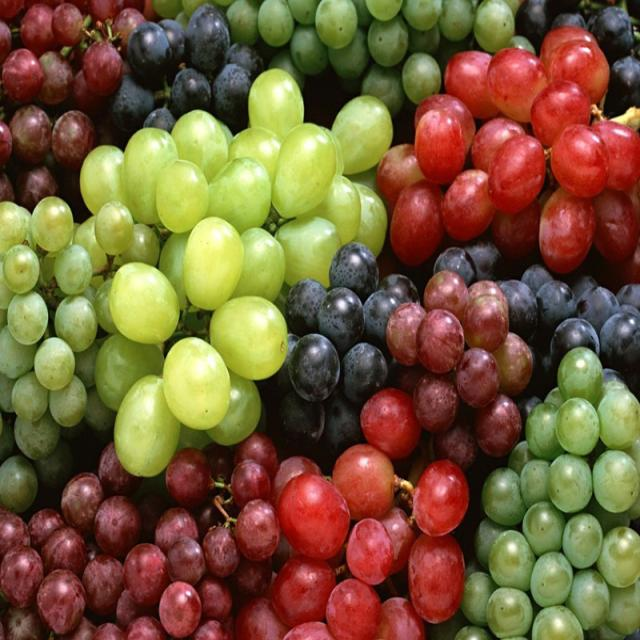grape: (114, 376, 179, 475), (210, 297, 287, 379), (163, 339, 230, 429), (278, 474, 349, 558), (272, 124, 335, 218), (109, 263, 179, 344), (122, 128, 178, 223), (95, 334, 163, 410), (408, 535, 464, 622), (207, 157, 271, 233), (332, 96, 392, 174), (540, 188, 595, 273), (390, 180, 444, 266), (333, 444, 394, 520), (272, 555, 335, 627), (488, 135, 545, 214), (276, 216, 341, 285), (488, 48, 548, 122), (172, 109, 231, 183), (360, 389, 420, 458), (413, 460, 468, 535), (552, 124, 608, 197), (531, 80, 590, 147), (208, 371, 261, 445), (546, 41, 609, 103), (248, 69, 303, 140), (415, 109, 466, 184), (156, 160, 209, 232), (442, 170, 495, 241), (309, 174, 361, 244), (444, 52, 498, 119), (288, 334, 340, 402), (414, 94, 475, 150), (593, 189, 638, 262), (592, 121, 639, 190), (327, 580, 381, 639), (185, 5, 230, 74), (80, 146, 124, 215), (416, 310, 464, 373), (37, 570, 85, 633), (318, 287, 363, 354), (228, 125, 280, 182), (475, 394, 521, 457), (94, 496, 141, 557), (471, 118, 524, 172), (593, 451, 639, 513), (330, 243, 378, 302), (492, 200, 540, 259), (376, 144, 423, 204), (488, 531, 535, 590), (124, 543, 168, 606), (166, 447, 211, 508), (127, 23, 171, 85), (212, 63, 252, 130), (61, 473, 103, 535), (270, 456, 321, 507), (52, 110, 95, 170), (236, 501, 279, 561), (462, 295, 508, 351), (548, 455, 592, 513), (0, 547, 43, 606), (566, 570, 609, 629), (456, 348, 499, 407), (386, 302, 426, 365), (558, 347, 602, 404), (82, 554, 123, 615), (493, 332, 532, 396), (9, 105, 51, 164), (482, 469, 526, 525), (598, 389, 639, 449), (556, 398, 599, 455), (354, 183, 387, 257), (588, 8, 633, 62), (158, 233, 189, 309), (540, 26, 596, 68), (41, 526, 87, 577), (380, 507, 415, 573), (487, 587, 533, 637), (285, 279, 326, 335), (364, 291, 402, 351), (31, 197, 73, 251), (160, 582, 201, 637), (2, 48, 43, 103), (98, 442, 141, 494), (531, 552, 572, 606), (33, 338, 75, 390), (7, 292, 48, 345), (82, 42, 123, 95), (235, 598, 288, 639), (424, 270, 468, 319), (434, 421, 478, 470), (368, 15, 408, 68), (14, 412, 59, 459), (154, 507, 198, 554), (536, 280, 575, 333), (95, 202, 134, 254), (402, 53, 441, 104), (577, 286, 619, 333), (0, 326, 37, 379), (230, 459, 270, 508), (461, 571, 497, 625), (49, 376, 87, 427), (54, 245, 92, 296), (378, 598, 425, 639), (34, 440, 72, 490), (202, 527, 239, 578), (290, 25, 327, 75), (606, 582, 639, 634), (532, 606, 583, 639), (120, 223, 159, 266), (196, 575, 231, 621), (28, 508, 63, 553), (268, 50, 306, 90), (116, 589, 154, 628), (0, 202, 29, 253), (0, 506, 29, 557), (3, 607, 48, 639), (113, 7, 144, 53), (125, 615, 166, 639), (508, 440, 535, 475), (143, 108, 175, 133), (93, 622, 124, 639)
